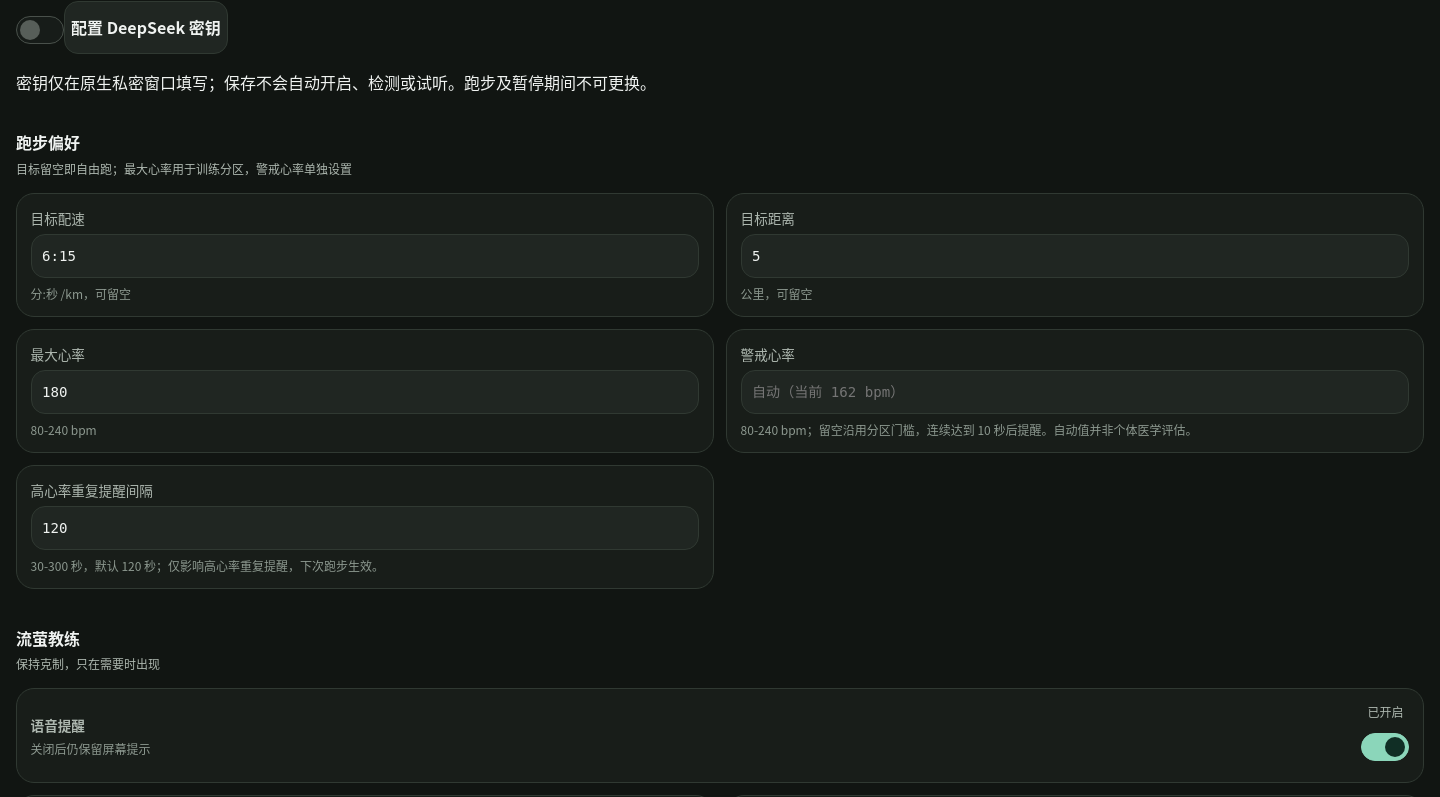
Test case: 真实本地设置 › 拒绝非法心率偏好 {} 79
(page scrolled)
Type "79" into the field labelled "警戒心率 80-240 bpm；留空沿用分区门槛，连续达到 10 秒后提醒。自动值并非个体医学评估。". click: (1075, 392)
box: x1=741 y1=370 x2=1409 y2=414
(page scrolled)
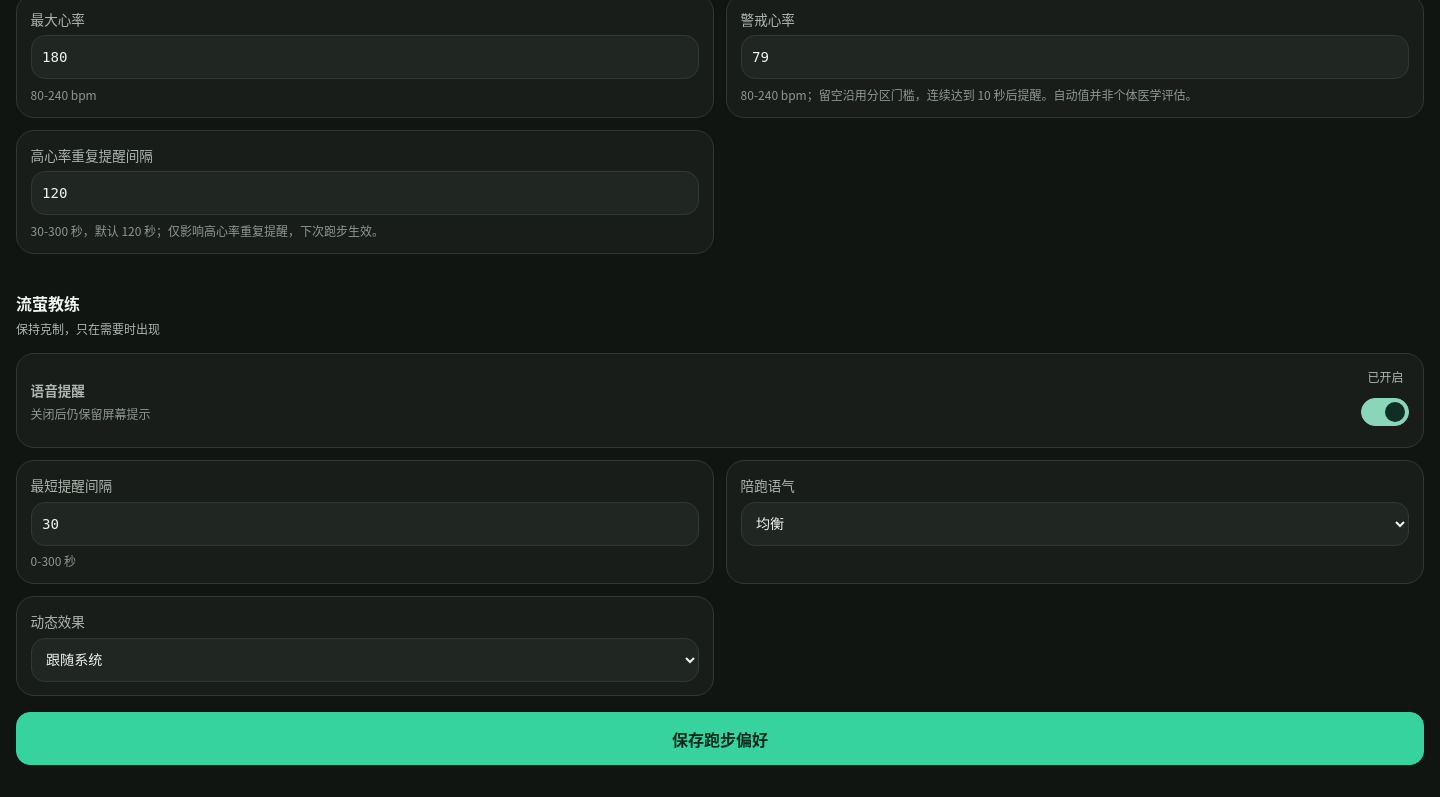
Click the button "保存跑步偏好". click: (720, 739)
box: x1=16 y1=712 x2=1424 y2=765
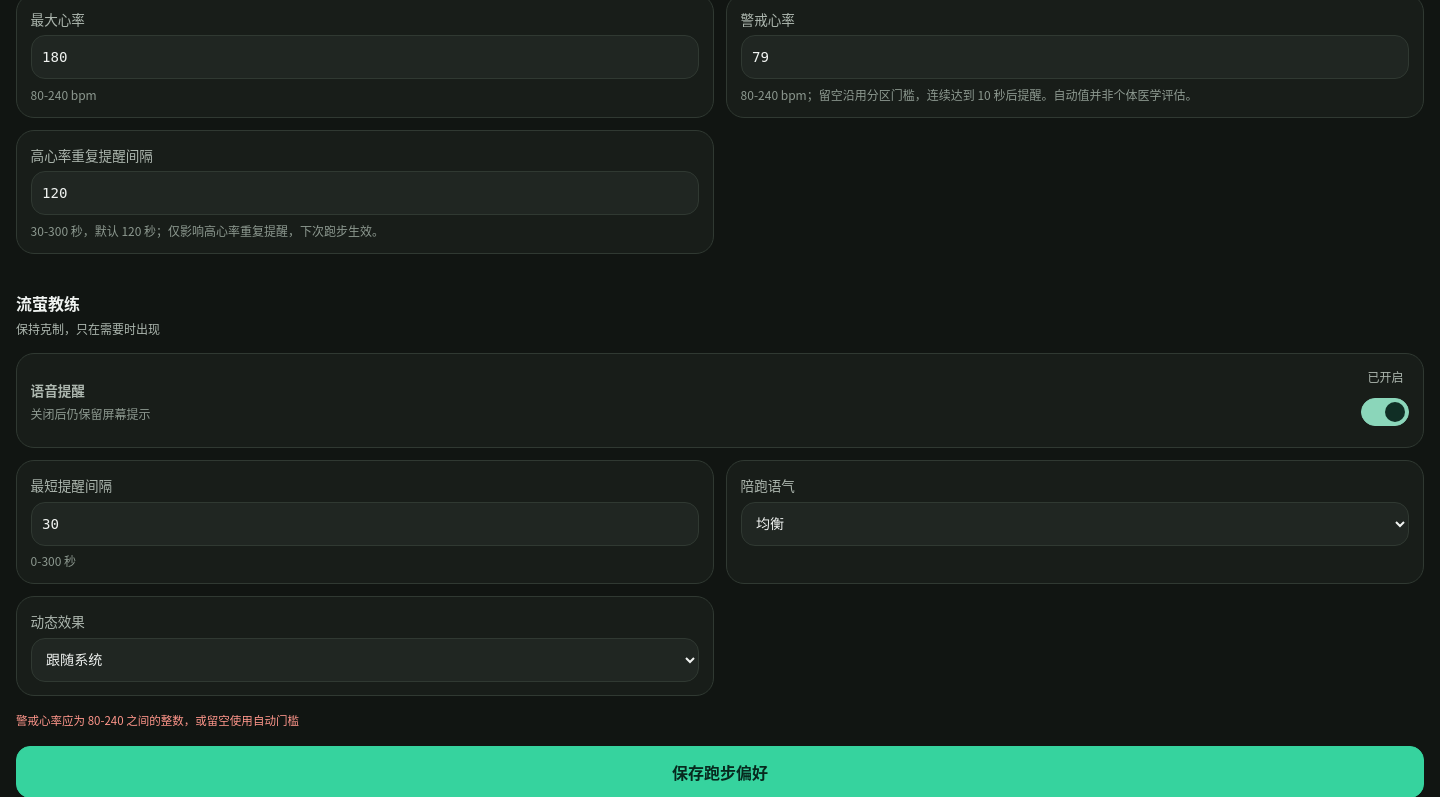
Check: the text "警戒心率应为 80-240 之间的整数，或留空使用自动门槛" is shown, box x1=16 y1=712 x2=299 y2=728
